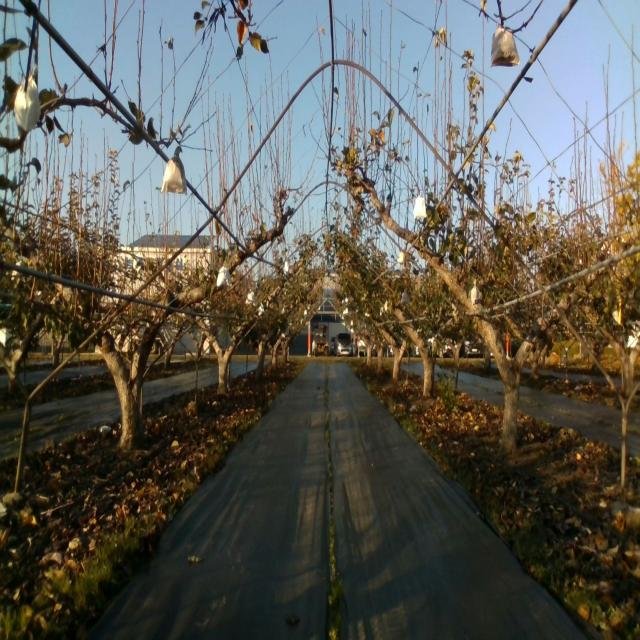pearbags: (13, 63, 41, 132), (488, 22, 520, 68), (160, 152, 188, 198), (413, 193, 427, 220), (216, 264, 232, 287), (470, 280, 480, 307)
